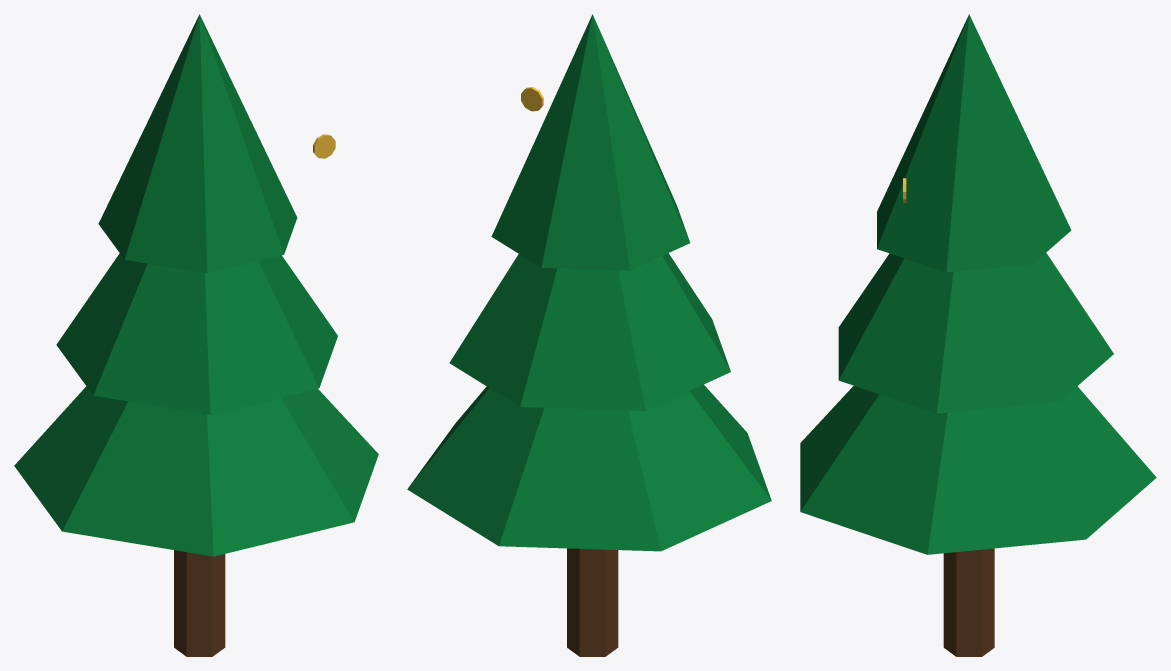
Rendered from Prop_OR_LedgerTree_01.glb.
3 views of the same model, side by side, from view 1: azimuth 30°, elevation 25°; view 2: azimuth 150°, elevation 25°; view 3: azimuth 270°, elevation 25° (orthographic).
Parts seen in each view (by area): view 1: Prop_OR_LedgerTree_01; view 2: Prop_OR_LedgerTree_01; view 3: Prop_OR_LedgerTree_01.
Part boxes in pixels (x1,y1,x2,y2): Prop_OR_LedgerTree_01: [14, 14, 378, 656]; Prop_OR_LedgerTree_01: [407, 14, 771, 656]; Prop_OR_LedgerTree_01: [800, 14, 1156, 656].
Bounding box in the file's own units: 2.14 × 4.1 × 2.09.
